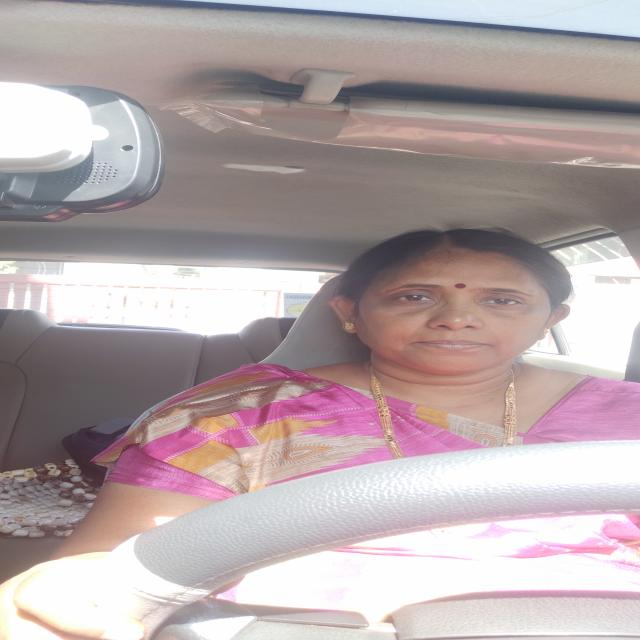person: (317, 219, 584, 379)
